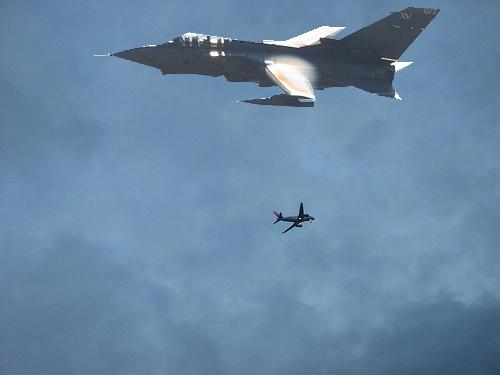tampered: (95, 8, 440, 107)
